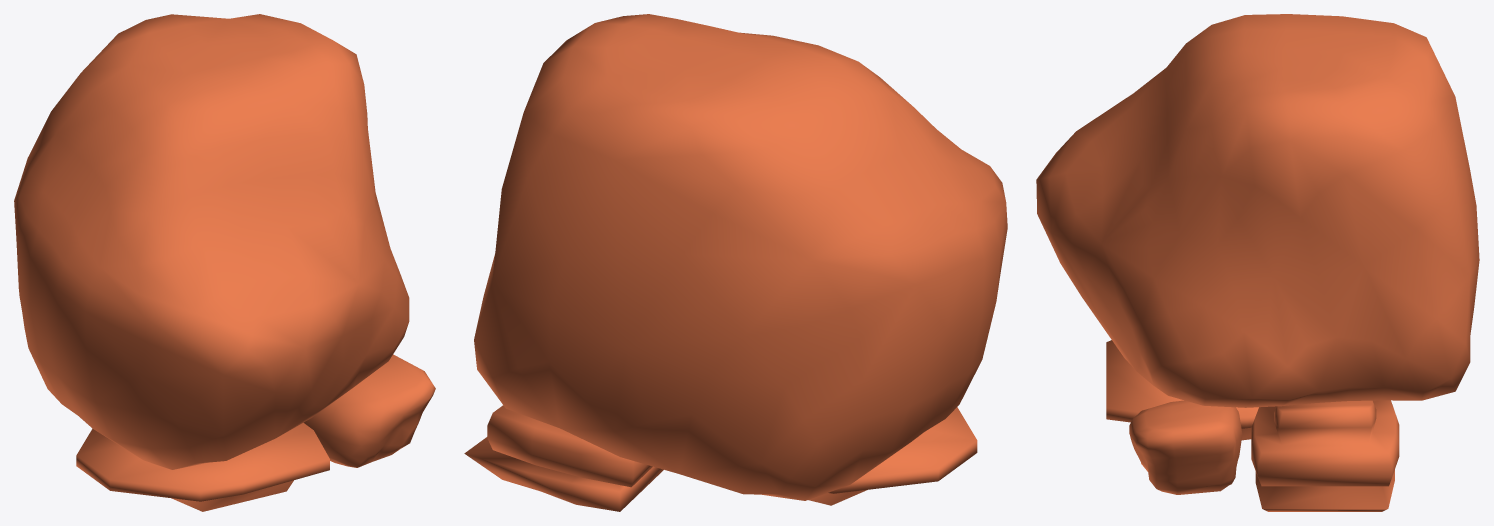
Rendered from DecorativeStone.fbx.
3 renders of one model, left to right at view 1: azimuth 30°, elevation 25°; view 2: azimuth 150°, elevation 25°; view 3: azimuth 270°, elevation 25°, orthographic. The views are drawn at different scales.
Parts seen in each view (by area): view 1: Cube; view 2: Cube; view 3: Cube.
Part boxes in pixels (x1=…): Cube: x1=14, y1=14, x2=435, y2=511; Cube: x1=464, y1=14, x2=1007, y2=511; Cube: x1=1036, y1=14, x2=1479, y2=511.
Bounding box in the file's own units: 2.05 × 1.97 × 2.03.
